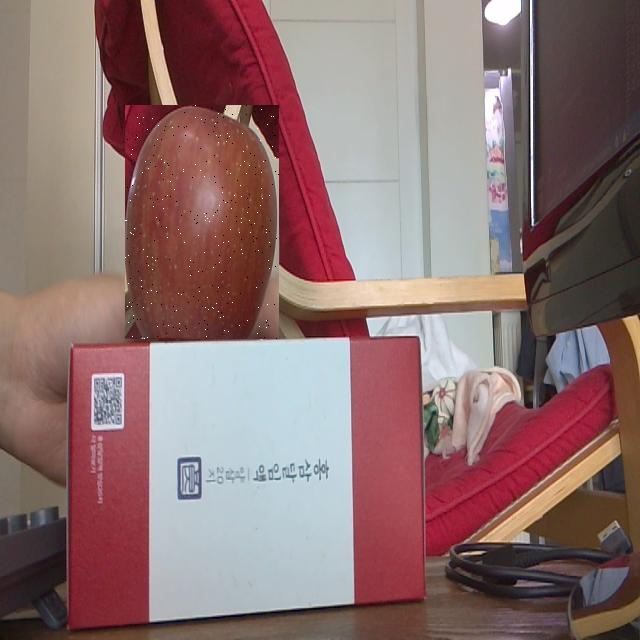apple: (125, 105, 279, 339)
